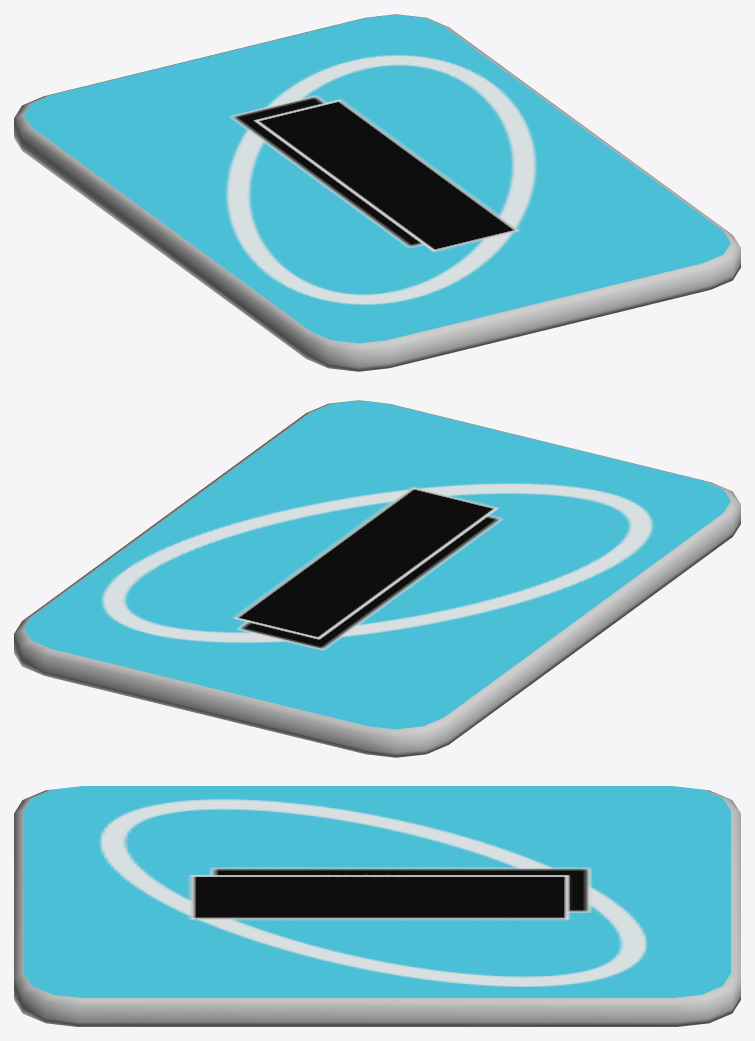
Rendered from Card1.fbx.
3 renders of one model, top to bottom at view 1: azimuth 30°, elevation 25°; view 2: azimuth 150°, elevation 25°; view 3: azimuth 270°, elevation 25°, orthographic. The views are drawn at different scales.
Parts seen in each view (by area): view 1: PaperJack; view 2: PaperJack; view 3: PaperJack.
Part boxes in pixels (x1,y1,x2,y2): PaperJack: [14, 14, 740, 371]; PaperJack: [14, 400, 740, 757]; PaperJack: [14, 786, 740, 1026].
Size of the model in its own units: 52.76 by 2.82 by 73.86.
